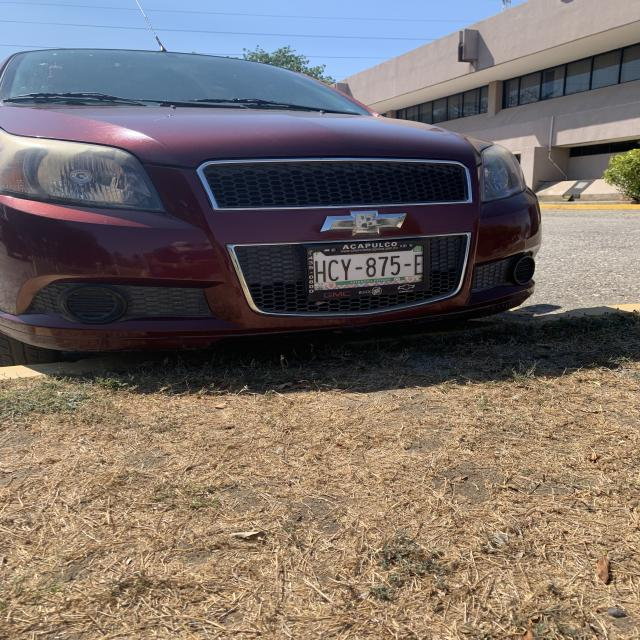placa: (309, 252, 430, 281)
